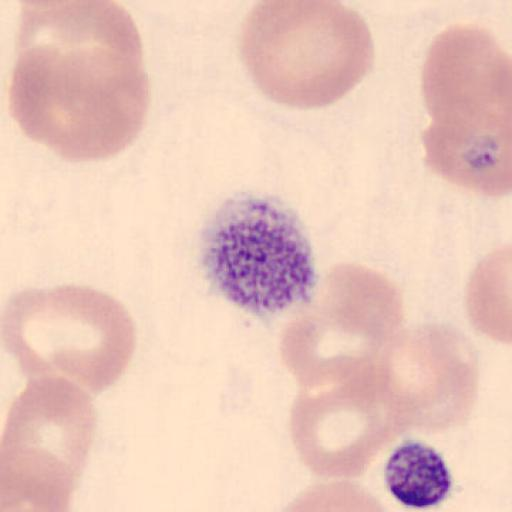Platelet: (197, 192, 324, 320), (380, 436, 456, 512)
RBC: (278, 260, 409, 403), (8, 42, 150, 165), (419, 21, 512, 196), (238, 0, 378, 113), (19, 281, 139, 397), (1, 375, 97, 512), (376, 320, 480, 439), (419, 21, 512, 145), (277, 297, 390, 394), (287, 382, 397, 481), (310, 259, 408, 356), (57, 0, 145, 87), (2, 285, 72, 375), (13, 4, 92, 82), (1, 438, 76, 512), (463, 241, 512, 347), (271, 478, 400, 512), (12, 0, 102, 37), (11, 0, 107, 20)
